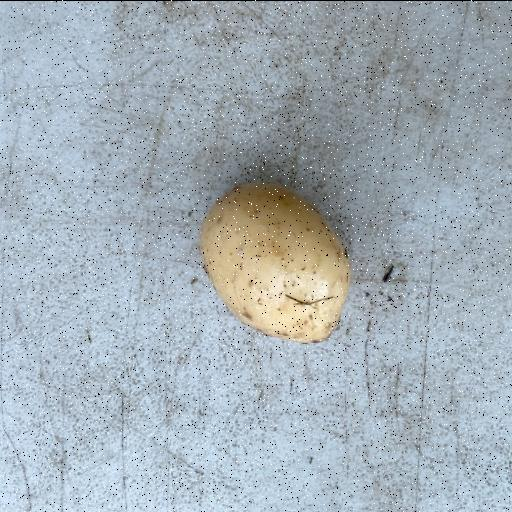Waste: (198, 181, 352, 345)
